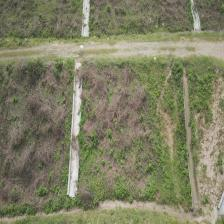slope_drain: (182, 77, 201, 211), (67, 61, 84, 199)
